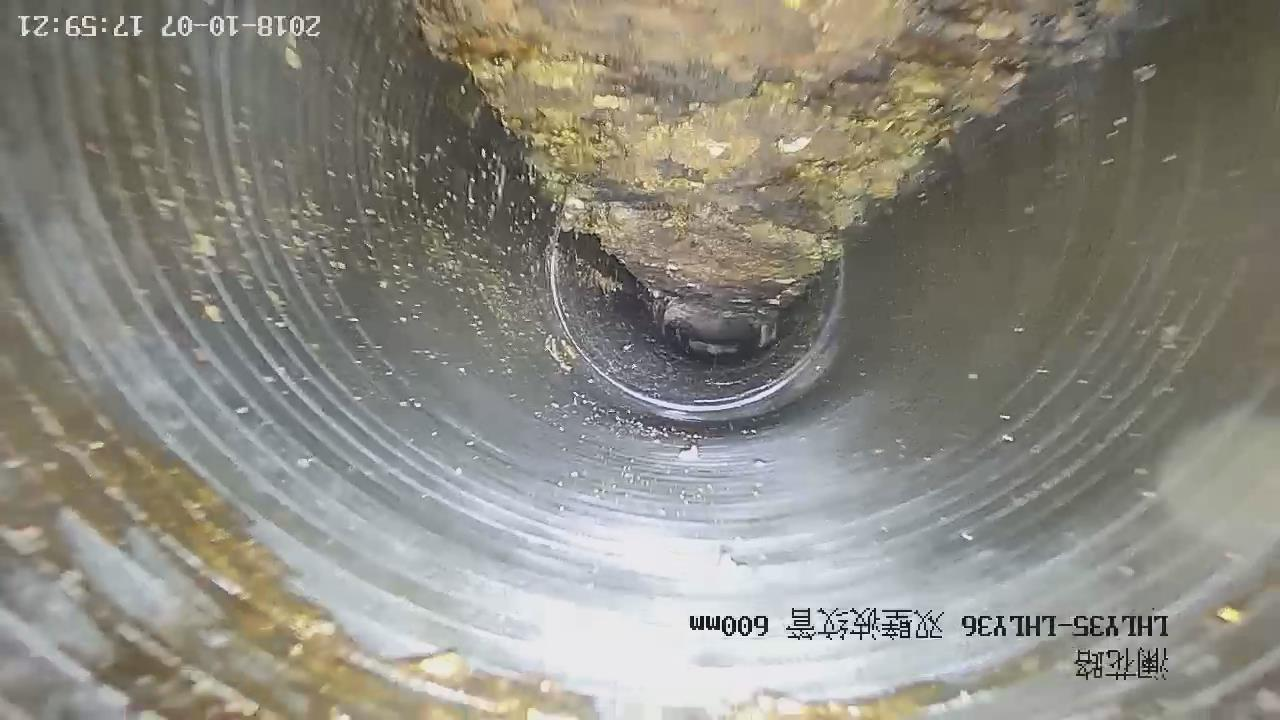CJ: (416, 1, 1126, 337)
CKTJ: (548, 226, 838, 412)
